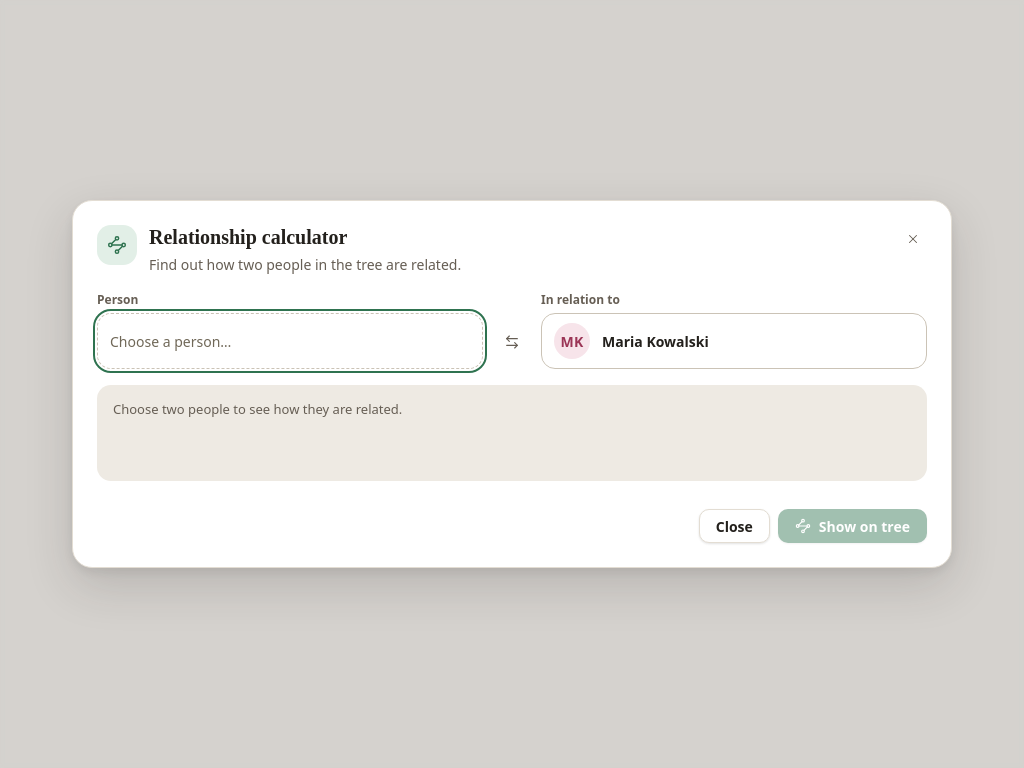
Scenario: RelationshipDialog › picks a person from the list
The width and height of the screenshot is (1024, 768).
Click the button "Choose a person…" at (171, 341), box x1=97 y1=313 x2=483 y2=369
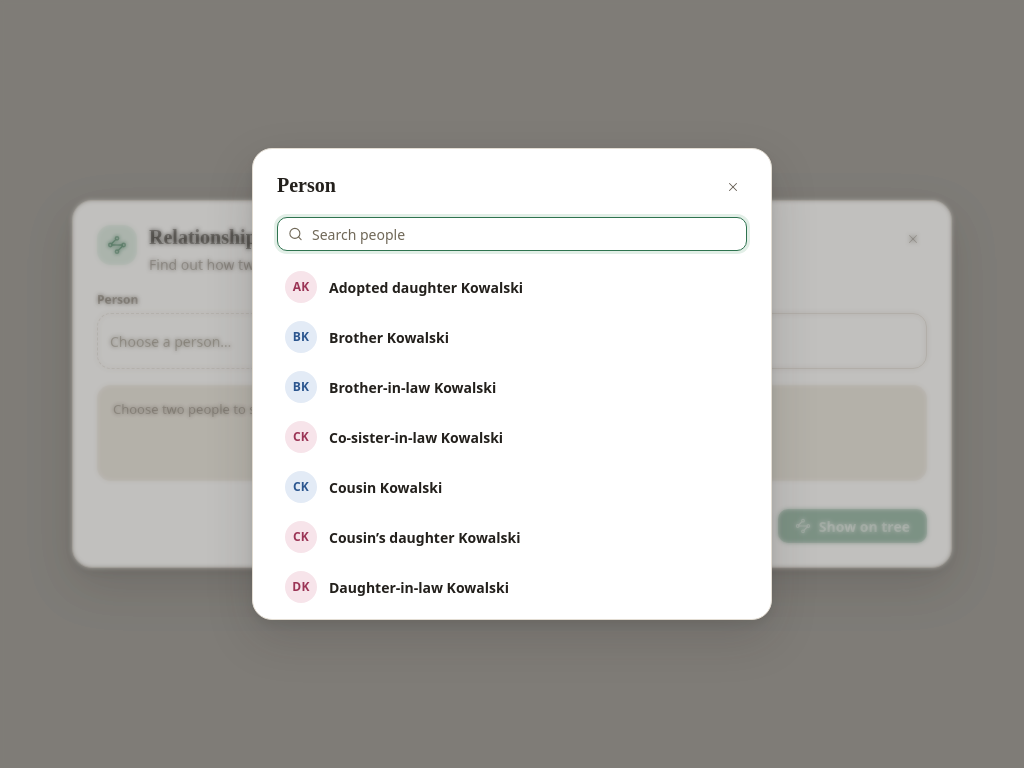
Type "Nephew" into the search field at (512, 234), box x1=277 y1=217 x2=747 y2=251
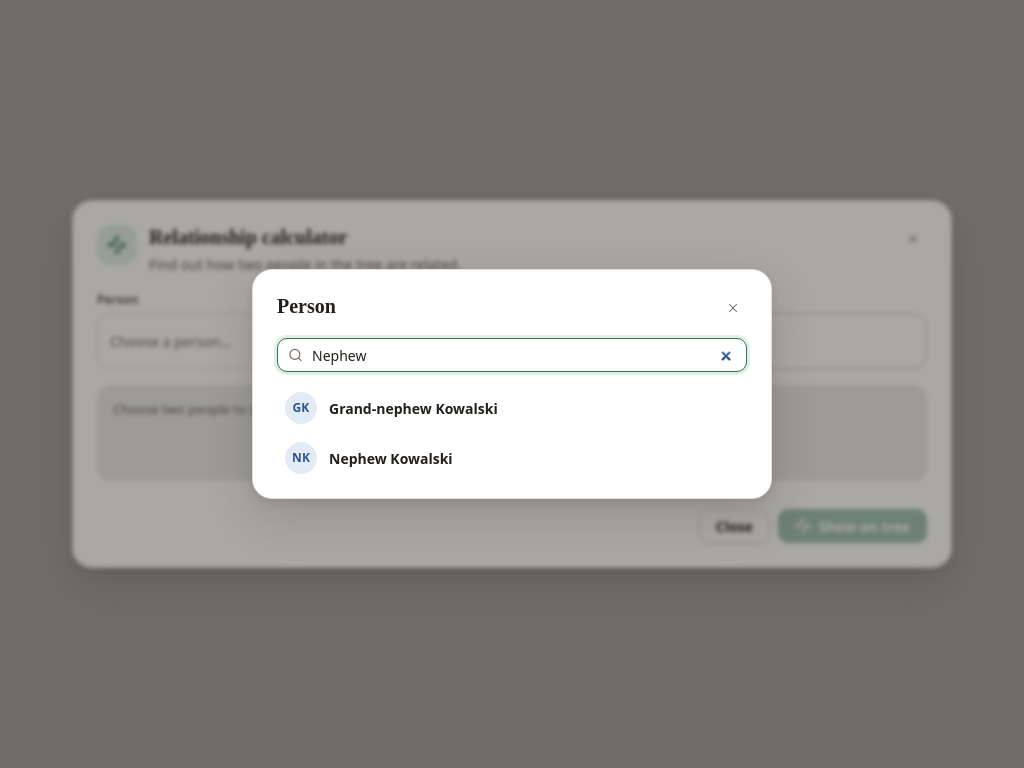
Click the option "NK Nephew Kowalski" at (301, 458), box x1=277 y1=434 x2=747 y2=482
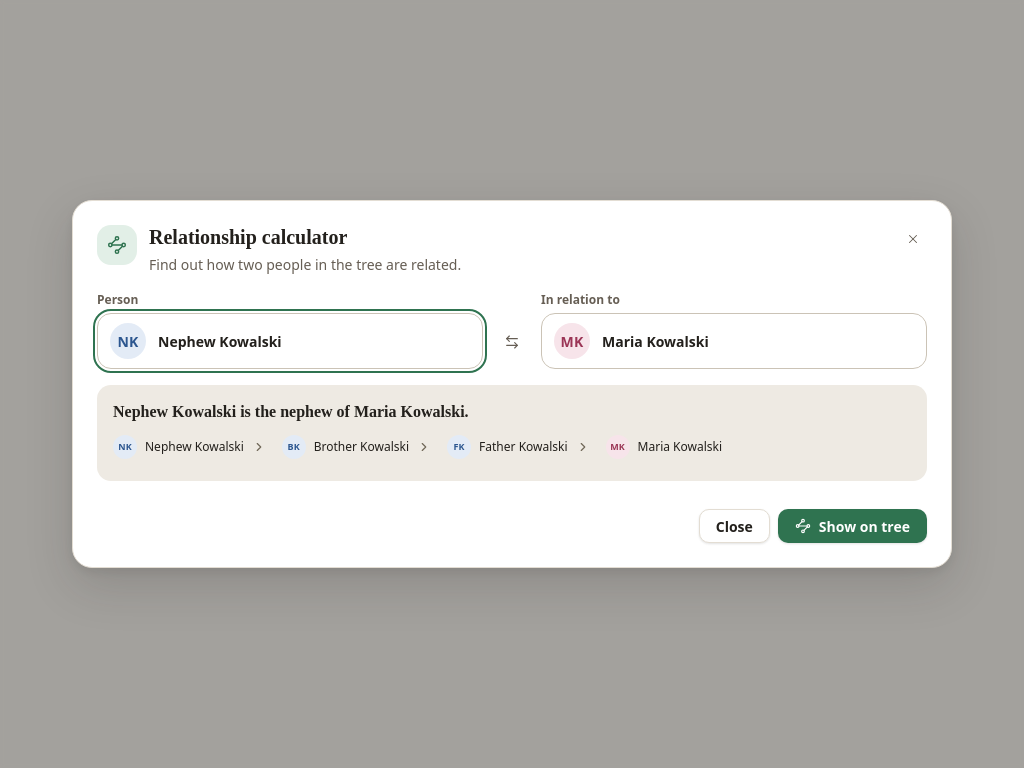
Now the message reads "Nephew Kowalski is the nephew of Maria Kowalski.", box x1=113 y1=403 x2=469 y2=420
